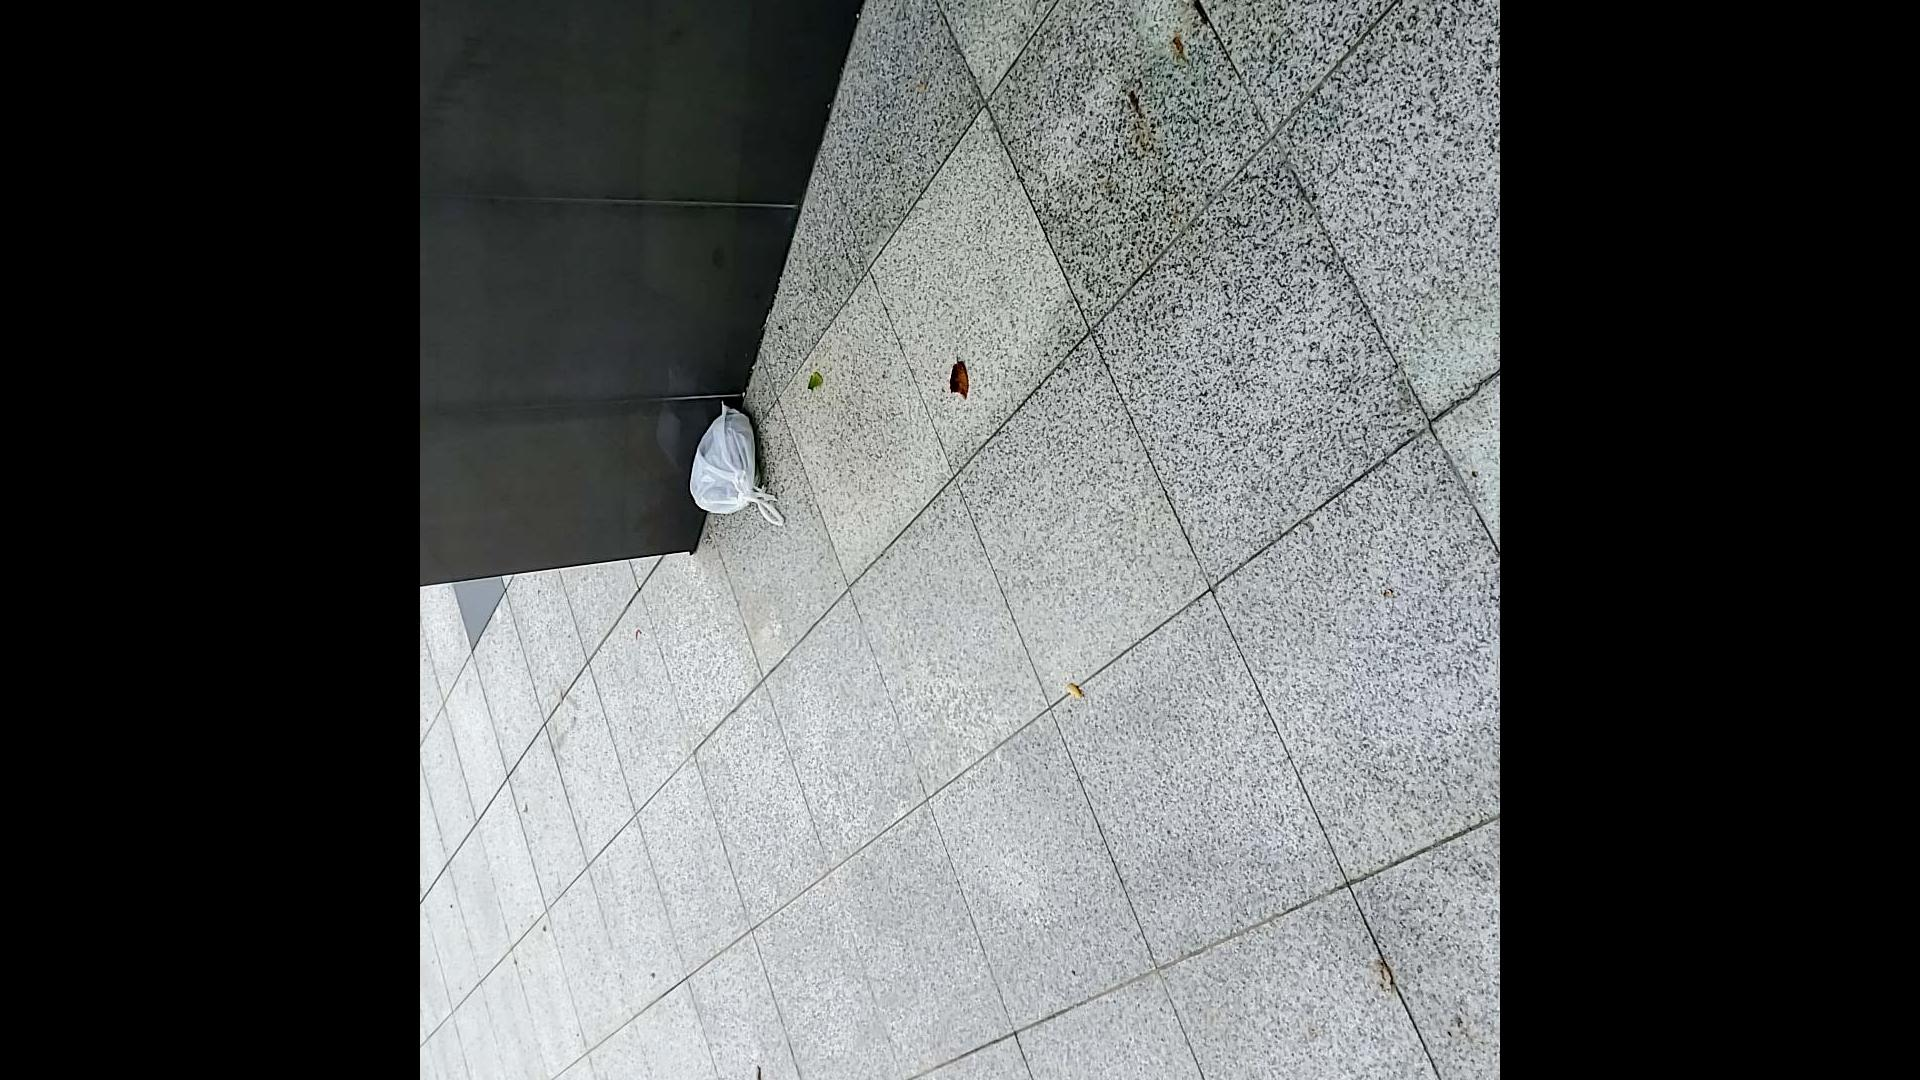white_bag: (674, 400, 799, 537)
